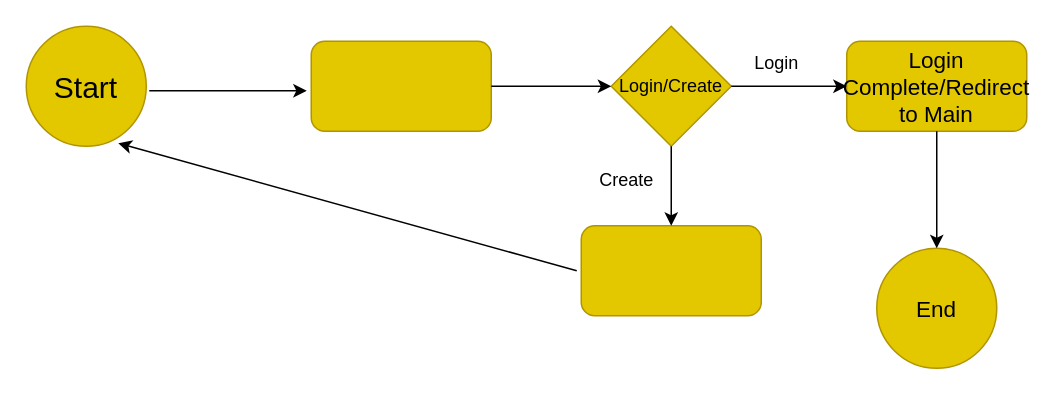
This 1056x395 diagram has some shape labels left out. Here are the shapes that lost their labels. From the top down, the centre of each, then its label:
At point 400,85: "Enter User Info".
At point 670,270: "Error Login/Forgot Password Process".
